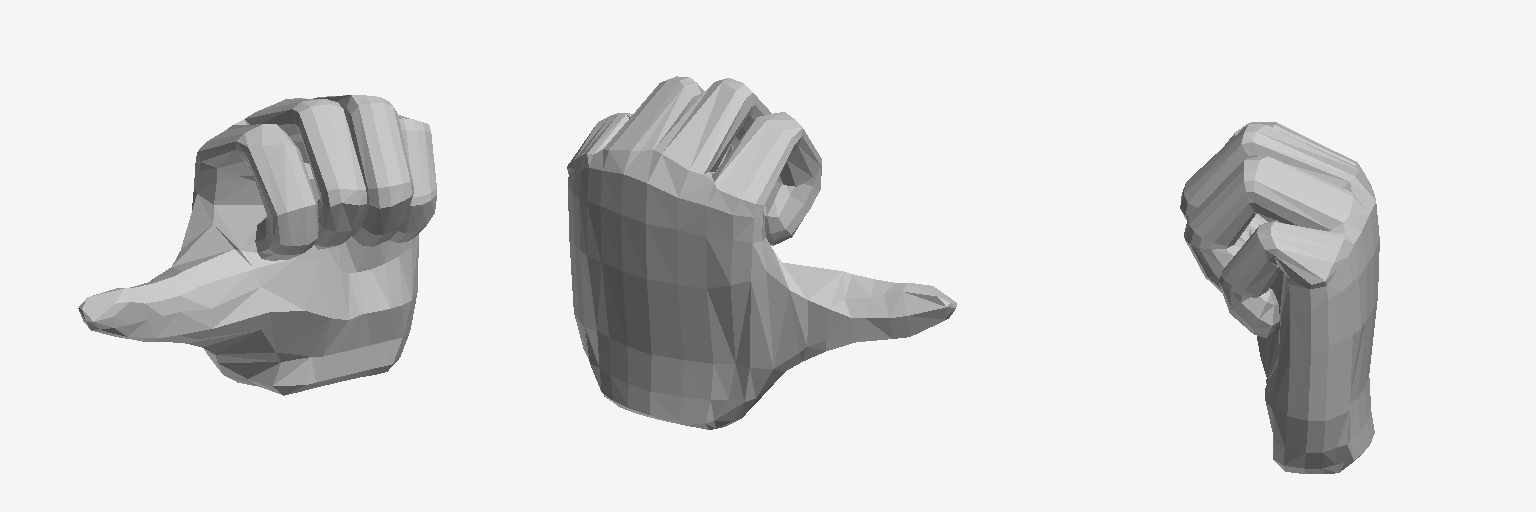
File: mao_onze.obj
3 renders of one model, left to right at view 1: azimuth 30°, elevation 25°; view 2: azimuth 150°, elevation 25°; view 3: azimuth 270°, elevation 25°, orthographic.
Visible parts, largest first — view 1: objBox02; view 2: objBox02; view 3: objBox02.
Part boxes in pixels (left/top/right/bottom): objBox02: left=78, top=95, right=436, bottom=395; objBox02: left=567, top=76, right=956, bottom=429; objBox02: left=1180, top=122, right=1379, bottom=473.
Bounding box in the file's own units: 202 × 164 × 97.66.